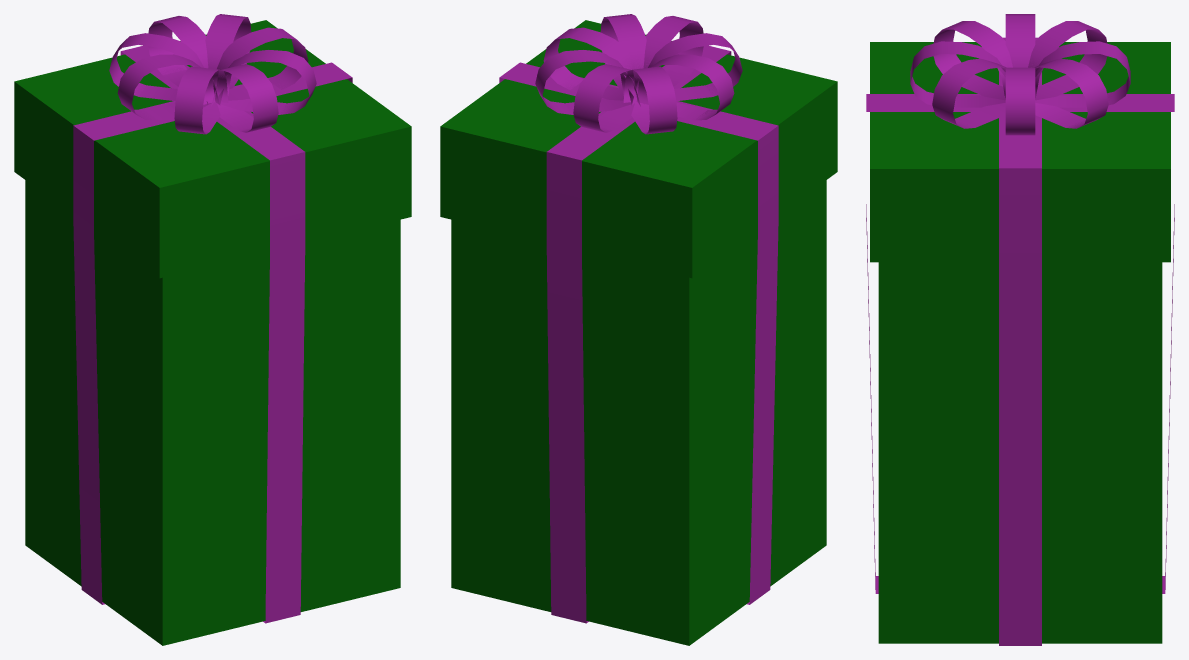
The model's file is PresentTall.fbx.
3 renders of one model, left to right at view 1: azimuth 30°, elevation 25°; view 2: azimuth 150°, elevation 25°; view 3: azimuth 270°, elevation 25°, orthographic. The views are drawn at different scales.
Visible parts, largest first — view 1: pBox, pLid, pRibbon, pBow; view 2: pBox, pLid, pRibbon, pBow; view 3: pBox, pLid, pRibbon, pBow.
Boxes of the visible parts, <box> form: pBox: <box>25,180,400,645</box>; pLid: <box>14,20,411,278</box>; pRibbon: <box>73,45,352,623</box>; pBow: <box>109,14,316,134</box>; pBox: <box>451,180,826,645</box>; pLid: <box>440,20,837,278</box>; pRibbon: <box>499,45,778,623</box>; pBow: <box>535,14,742,134</box>; pBox: <box>878,262,1162,643</box>; pLid: <box>870,42,1170,262</box>; pRibbon: <box>866,37,1174,645</box>; pBow: <box>910,14,1130,135</box>.
Size of the model in its own units: 12.28 by 23.59 by 12.28.
